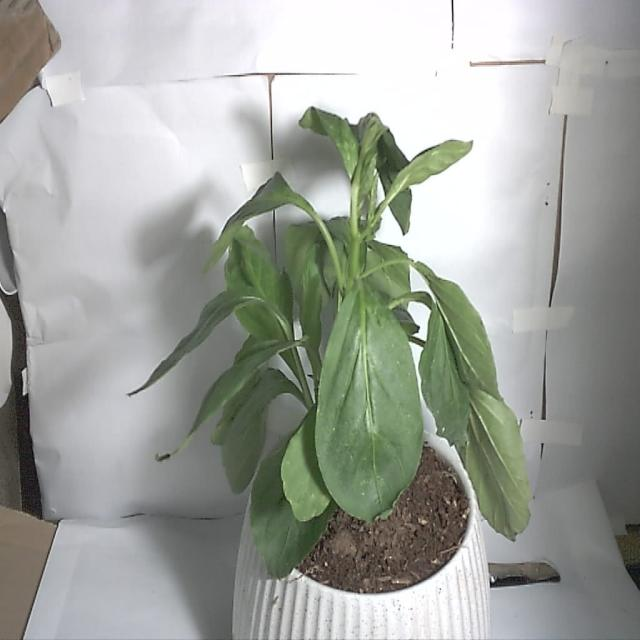Leaf: (316, 280, 428, 518)
